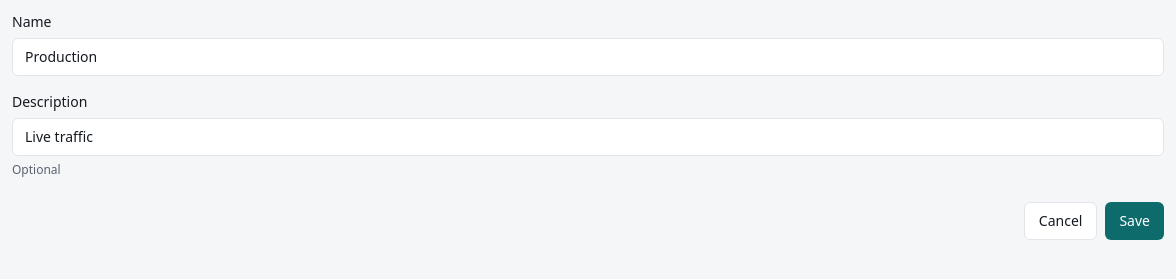
ApplicationForm when editing › shows a server validation error on its field
Click the button "Save" at (1135, 221), box [1105,202,1164,240]
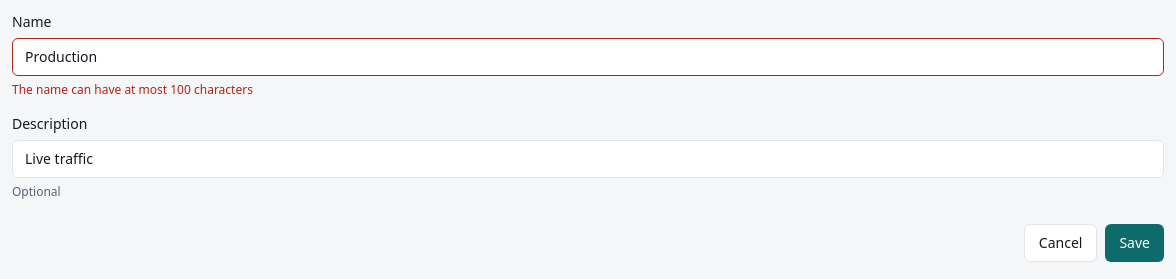
Result: the text "The name can have at most 100 characters" is shown at [12,81,253,98]
